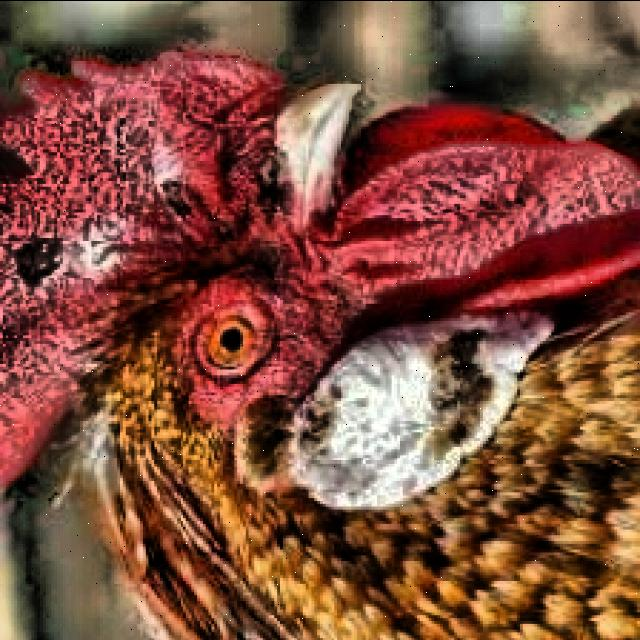Fowlpox: (6, 18, 538, 532)
